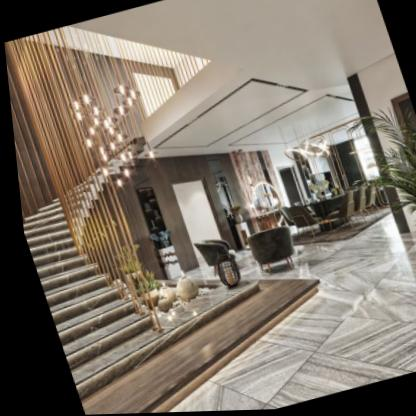Ceramic floor: (158, 213, 416, 413)
